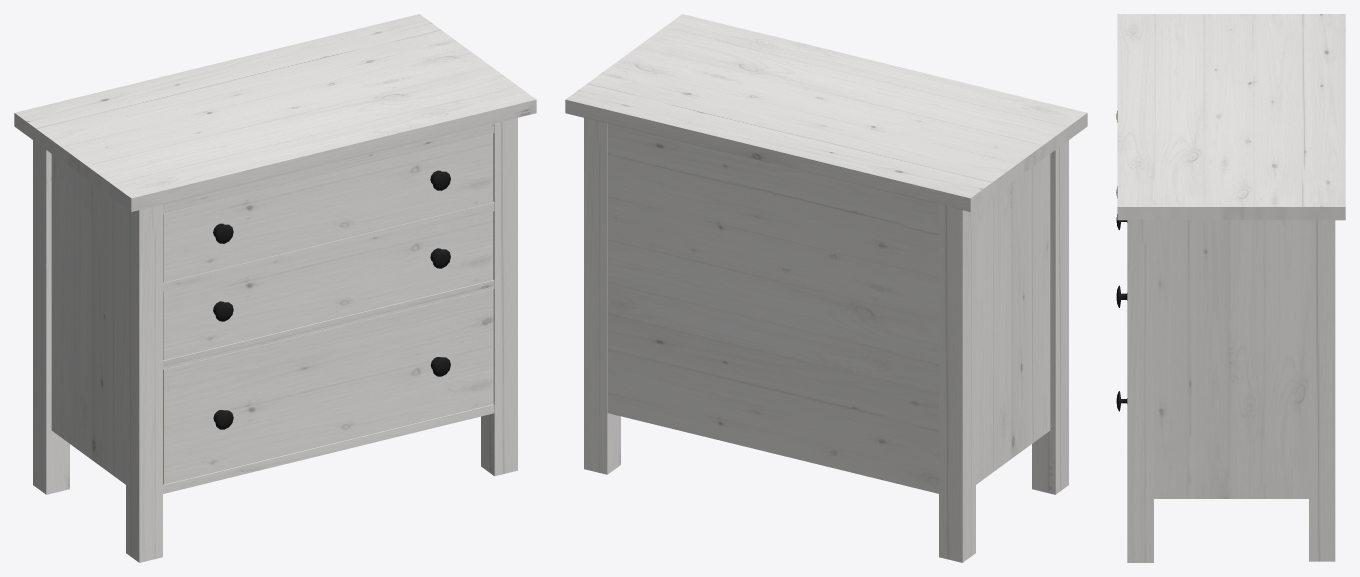
The model's file is CabinetA.fbx.
3 views of the same model, side by side, from view 1: azimuth 30°, elevation 25°; view 2: azimuth 150°, elevation 25°; view 3: azimuth 270°, elevation 25° (orthographic). The views are drawn at different scales.
Parts seen in each view (by area): view 1: CabinetA_Frame, CabinetA_Drawer.Lower, CabinetA_Drawer.Upper, CabinetA_Drawer.Middle; view 2: CabinetA_Frame; view 3: CabinetA_Frame.
Part boxes in pixels (<box>): CabinetA_Frame: <box>14,14,536,562</box>; CabinetA_Drawer.Lower: <box>163,289,493,484</box>; CabinetA_Drawer.Upper: <box>163,133,493,282</box>; CabinetA_Drawer.Middle: <box>163,211,493,360</box>; CabinetA_Frame: <box>565,14,1087,562</box>; CabinetA_Frame: <box>1117,14,1345,562</box>.
Bounding box in the file's own units: 110 × 96.39 × 55.21.
